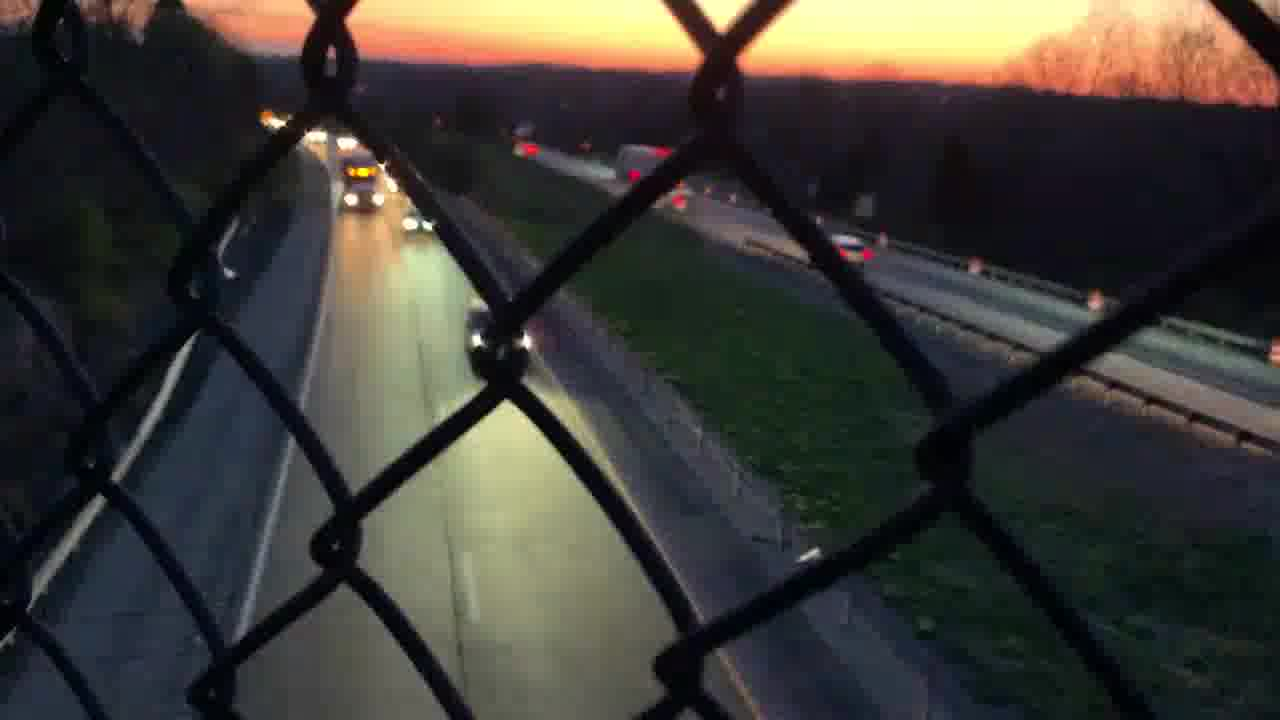heavyTruck: (332, 148, 389, 218)
